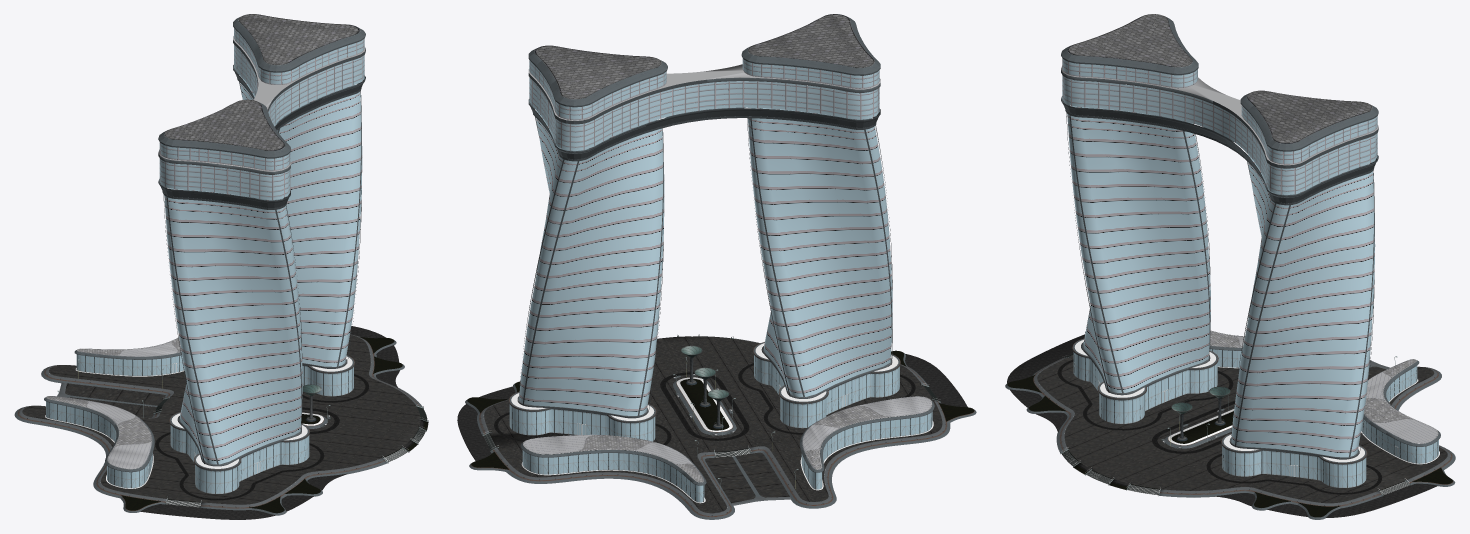
The model's file is Mall_Attached.fbx.
The picture shows the model from 3 angles, left to right: view 1: azimuth 30°, elevation 25°; view 2: azimuth 150°, elevation 25°; view 3: azimuth 270°, elevation 25°; orthographic projection. The views are drawn at different scales.
Visible parts, largest first — view 1: Mall; view 2: Mall; view 3: Mall.
Boxes of the visible parts, x1,y1,x2,y2 form: Mall: (14, 14, 428, 519); Mall: (457, 14, 976, 519); Mall: (1005, 14, 1455, 519).
Bounding box in the file's own units: 8141 × 6946 × 8095.
